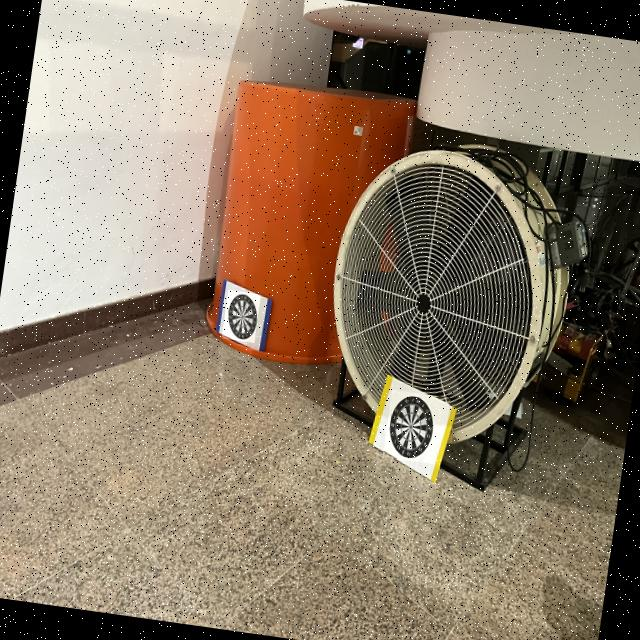archery-targets: (382, 390, 450, 466), (221, 290, 261, 343)
